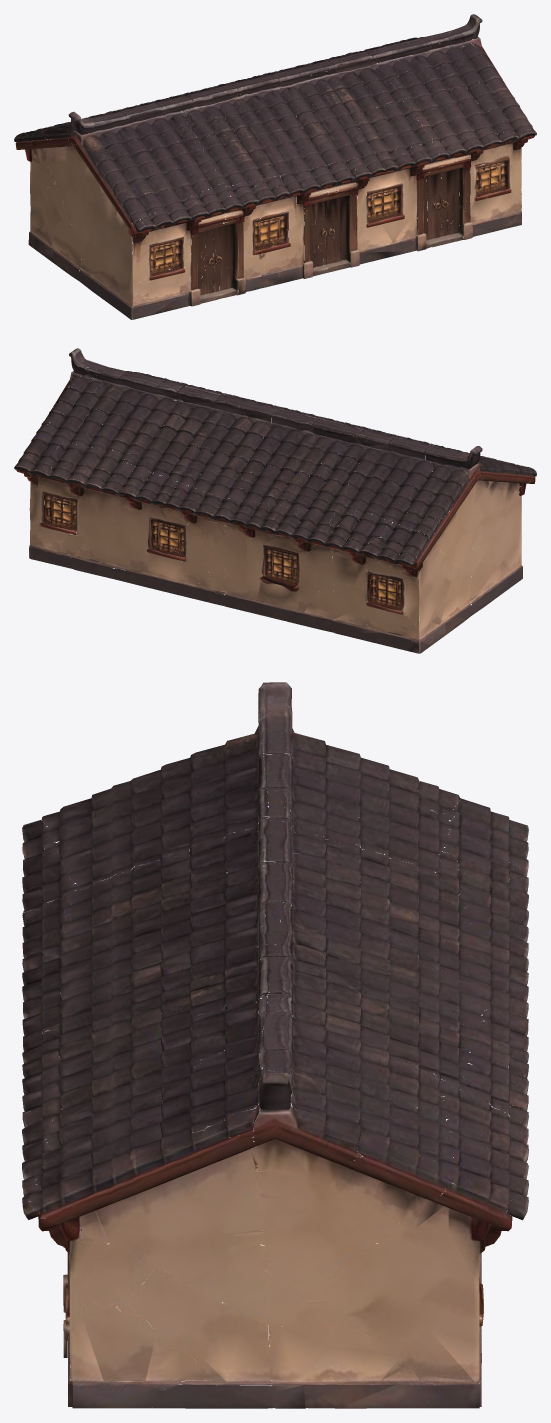
The model's file is house_f_40k.glb.
3 views of the same model, one above another, from view 1: azimuth 30°, elevation 25°; view 2: azimuth 150°, elevation 25°; view 3: azimuth 270°, elevation 25° (orthographic). The views are drawn at different scales.
Parts seen in each view (by area): view 1: tripo_node_0c058430-95c4-4d92-8e21-e1bcd6f2bd68; view 2: tripo_node_0c058430-95c4-4d92-8e21-e1bcd6f2bd68; view 3: tripo_node_0c058430-95c4-4d92-8e21-e1bcd6f2bd68.
Part boxes in pixels (x1,y1,x2,y2): tripo_node_0c058430-95c4-4d92-8e21-e1bcd6f2bd68: (14, 14, 536, 319); tripo_node_0c058430-95c4-4d92-8e21-e1bcd6f2bd68: (14, 348, 536, 653); tripo_node_0c058430-95c4-4d92-8e21-e1bcd6f2bd68: (22, 682, 528, 1408).
Size of the model in its own units: 0.9793 by 0.3889 by 0.5275.
1 material, 1 textured.
